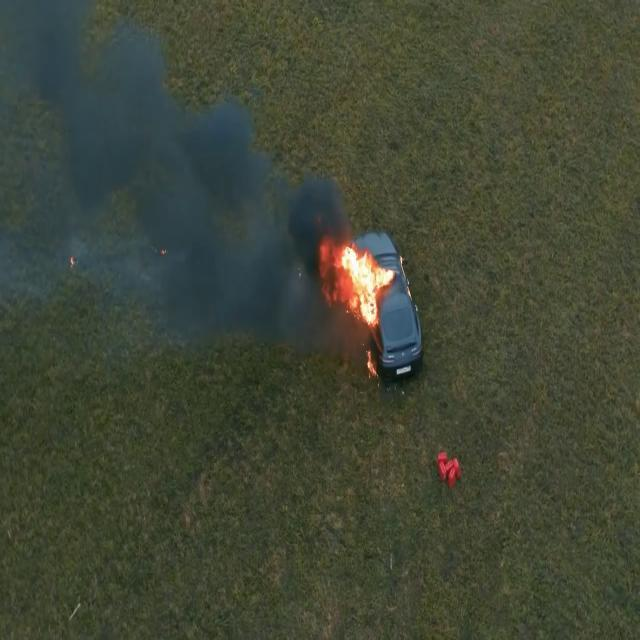Fire: (328, 242, 396, 327), (364, 346, 381, 384)
Smoke: (0, 0, 316, 350)
